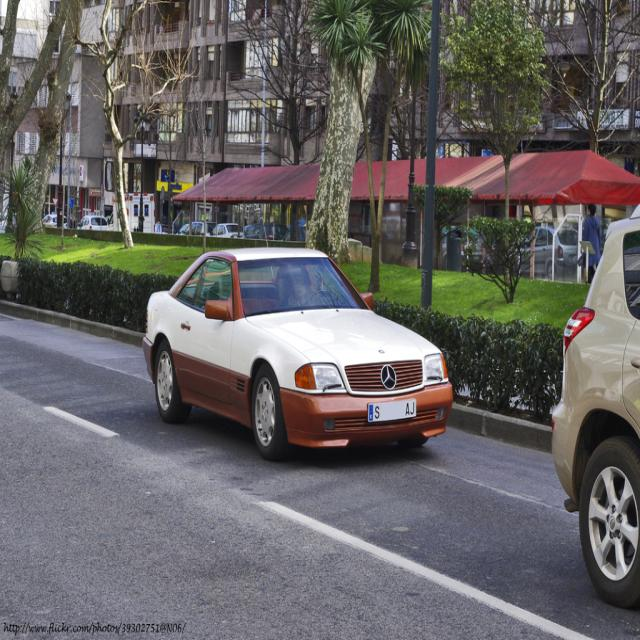car: (144, 246, 449, 449)
